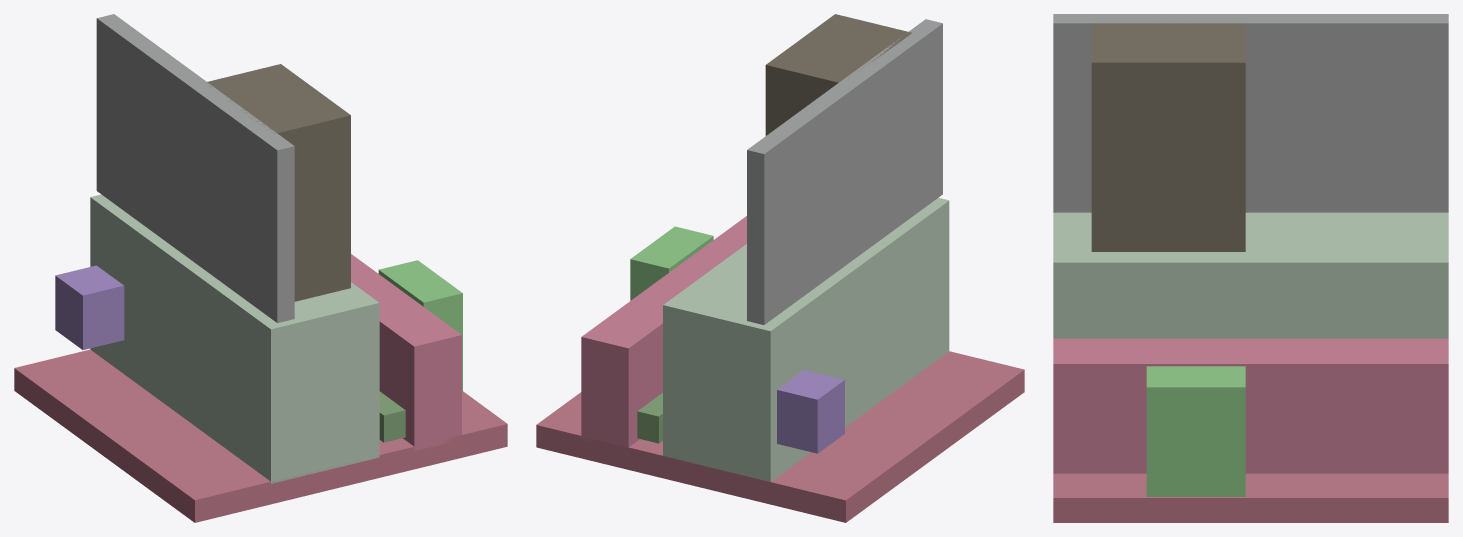
Rendered from 199505_pred.glb.
3 renders of one model, left to right at view 1: azimuth 30°, elevation 25°; view 2: azimuth 150°, elevation 25°; view 3: azimuth 270°, elevation 25°, orthographic. The views are drawn at different scales.
Visible parts, largest first — view 1: world; view 2: world; view 3: world.
Part boxes in pixels (x1=…): world: x1=14, y1=14, x2=507, y2=522; world: x1=536, y1=14, x2=1024, y2=522; world: x1=1053, y1=14, x2=1448, y2=522.
Bounding box in the file's own units: 7.2 × 7.75 × 7.2.
